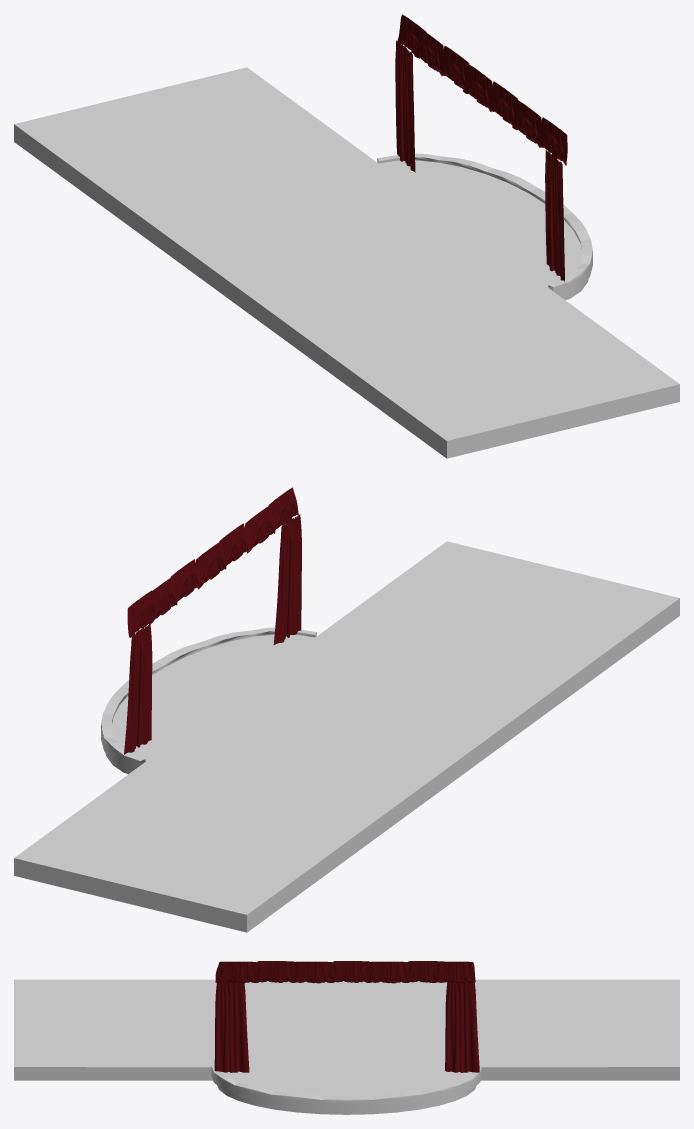
The model's file is Stage.fbx.
The picture shows the model from 3 angles, top to bottom: view 1: azimuth 30°, elevation 25°; view 2: azimuth 150°, elevation 25°; view 3: azimuth 270°, elevation 25°; orthographic projection. The views are drawn at different scales.
Visible parts, largest first — view 1: low_polly, Grid, Grid.001, Grid.003, Grid.004, Grid.002, Grid.007, Grid.005, Grid.006; view 2: low_polly, Grid, Grid.001, Grid.003, Grid.004, Grid.007, Grid.008, Grid.002, Grid.006, Grid.005; view 3: low_polly, Grid, Grid.001, Grid.002, Grid.005, Grid.006, Grid.008, Grid.003, Grid.004, Grid.007.
Part boxes in pixels (x1=…): low_polly: x1=14, y1=67, x2=679, y2=458; Grid: x1=395, y1=40, x2=415, y2=172; Grid.001: x1=545, y1=150, x2=564, y2=281; Grid.003: x1=512, y1=100, x2=541, y2=147; Grid.004: x1=463, y1=64, x2=492, y2=111; Grid.002: x1=538, y1=117, x2=567, y2=165; Grid.007: x1=414, y1=28, x2=443, y2=75; Grid.005: x1=489, y1=81, x2=517, y2=124; Grid.006: x1=440, y1=46, x2=469, y2=88; low_polly: x1=14, y1=541, x2=679, y2=932; Grid: x1=124, y1=624, x2=152, y2=754; Grid.001: x1=273, y1=514, x2=301, y2=644; Grid.003: x1=245, y1=505, x2=275, y2=553; Grid.004: x1=195, y1=542, x2=226, y2=589; Grid.007: x1=147, y1=577, x2=177, y2=624; Grid.008: x1=127, y1=590, x2=157, y2=637; Grid.002: x1=268, y1=487, x2=298, y2=534; Grid.006: x1=170, y1=559, x2=200, y2=606; Grid.005: x1=219, y1=523, x2=248, y2=570; low_polly: x1=14, y1=979, x2=679, y2=1114; Grid: x1=445, y1=982, x2=479, y2=1072; Grid.001: x1=214, y1=981, x2=249, y2=1072; Grid.002: x1=215, y1=961, x2=258, y2=983; Grid.005: x1=291, y1=961, x2=334, y2=983; Grid.006: x1=366, y1=961, x2=409, y2=983; Grid.008: x1=432, y1=961, x2=475, y2=983; Grid.003: x1=256, y1=961, x2=294, y2=982; Grid.004: x1=332, y1=961, x2=369, y2=982; Grid.007: x1=407, y1=961, x2=446, y2=982.
Size of the model in its own units: 1879 by 905 by 4306.
